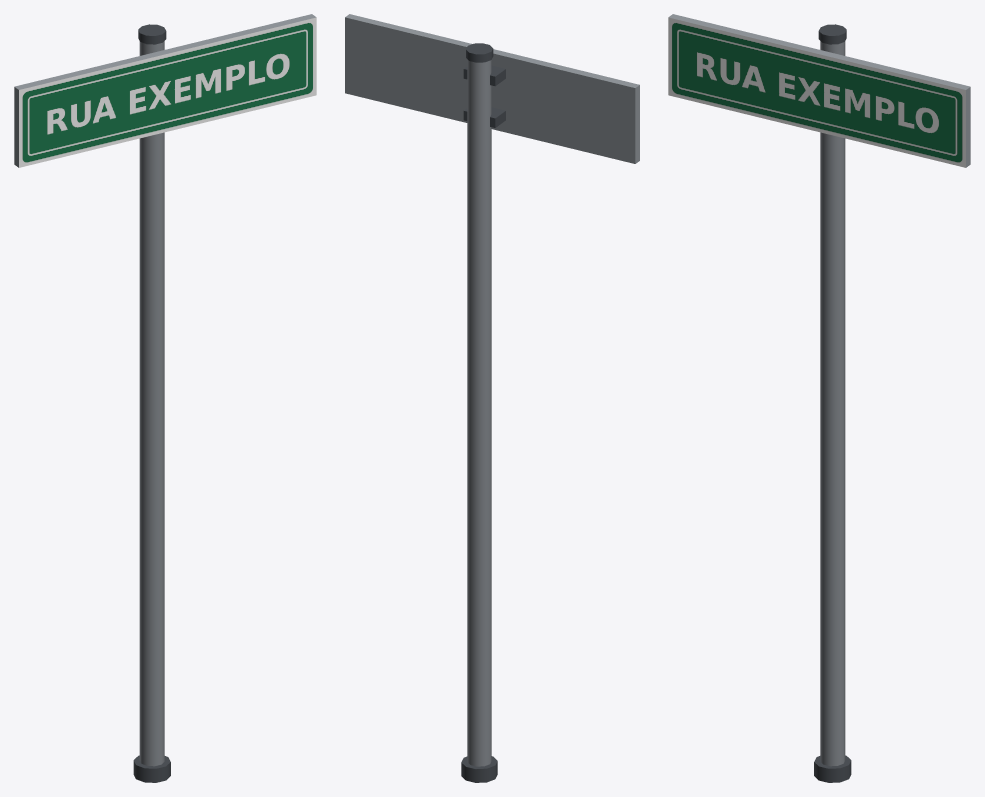
The model's file is placa-rua.glb.
The picture shows the model from 3 angles, left to right: view 1: azimuth 30°, elevation 25°; view 2: azimuth 150°, elevation 25°; view 3: azimuth 330°, elevation 25°; orthographic projection. The views are drawn at different scales.
Parts seen in each view (by area): view 1: Placa, Poste; view 2: Placa, Poste, Suportes; view 3: Placa, Poste.
Part boxes in pixels (x1,y1,x2,y2): Placa: (14,14,316,167); Poste: (133,24,170,782); Placa: (345,14,639,163); Poste: (461,43,497,782); Suportes: (463,65,505,127); Placa: (668,14,970,167); Poste: (814,24,851,782).
Bounding box in the file's own units: 1.1 × 2.63 × 0.1571.
Materials: 4 (1 with a texture image).
